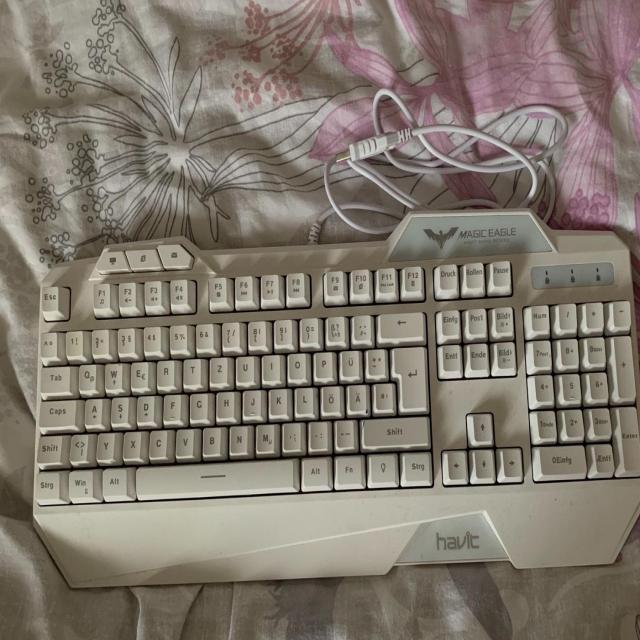0: (298, 314, 320, 344)
1: (64, 328, 82, 356)
2: (90, 326, 108, 355)
3: (116, 325, 135, 354)
4: (142, 323, 161, 352)
5: (168, 321, 188, 351)
6: (194, 320, 214, 349)
7: (221, 319, 241, 348)
8: (246, 317, 267, 347)
9: (272, 316, 293, 346)
a: (83, 396, 102, 426)
accent: (349, 312, 371, 341)
ae: (345, 381, 367, 411)
alt-left: (100, 464, 129, 498)
altgr-right: (299, 454, 329, 488)
b: (200, 424, 222, 454)
c: (147, 427, 168, 457)
caret: (39, 329, 57, 356)
comma: (280, 419, 302, 450)
d: (135, 393, 154, 423)
del: (376, 309, 423, 338)
e: (129, 358, 149, 388)
enter: (388, 342, 426, 409)
f: (162, 392, 181, 421)
g: (188, 390, 208, 419)
h: (215, 388, 235, 417)
hash: (371, 379, 393, 410)
i: (261, 352, 280, 380)
j: (241, 386, 262, 417)
k: (267, 385, 288, 415)
keyboard: (27, 248, 640, 518)
l: (293, 384, 314, 414)
less: (68, 431, 88, 461)
m: (254, 420, 276, 452)
minus: (333, 417, 355, 447)
n: (227, 422, 249, 453)
o: (285, 350, 307, 380)
oe: (320, 383, 341, 413)
p: (312, 349, 333, 377)
plus: (364, 345, 386, 376)
point: (307, 419, 328, 448)
q: (77, 361, 96, 391)
r: (155, 357, 175, 387)
s: (109, 394, 128, 424)
shift-left: (35, 431, 64, 462)
shift-lock: (37, 397, 77, 427)
shift-right: (359, 413, 429, 446)
space: (132, 457, 295, 498)
ss: (324, 313, 346, 343)
strg-left: (33, 469, 60, 501)
strg-right: (398, 449, 432, 485)
t: (182, 356, 201, 385)
tab: (39, 363, 71, 392)
u: (234, 353, 255, 382)
ue: (338, 347, 360, 378)
v: (173, 426, 194, 455)
w: (103, 361, 122, 390)
x: (121, 428, 141, 458)
y: (95, 430, 115, 460)
z: (208, 354, 228, 383)
